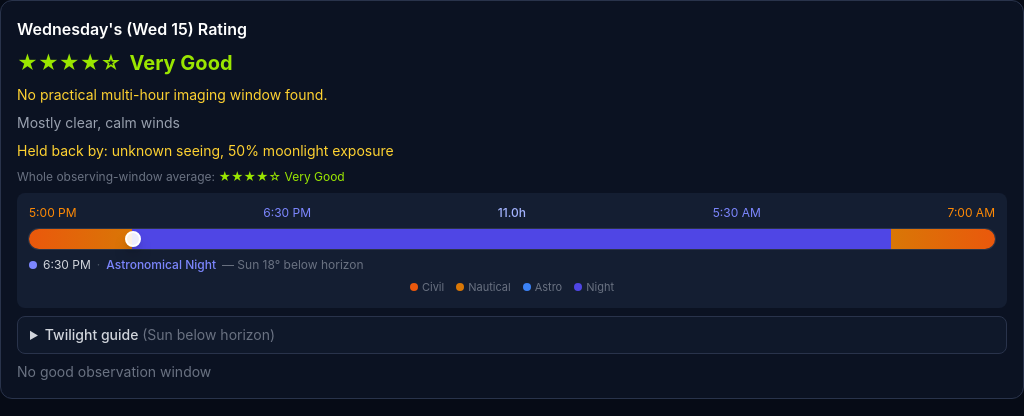
NightQualityCard › reports civil twilight at the start of the night
Set the slider named "night timeline scrubber" to "0": (67, 264) [29,229,995,296]
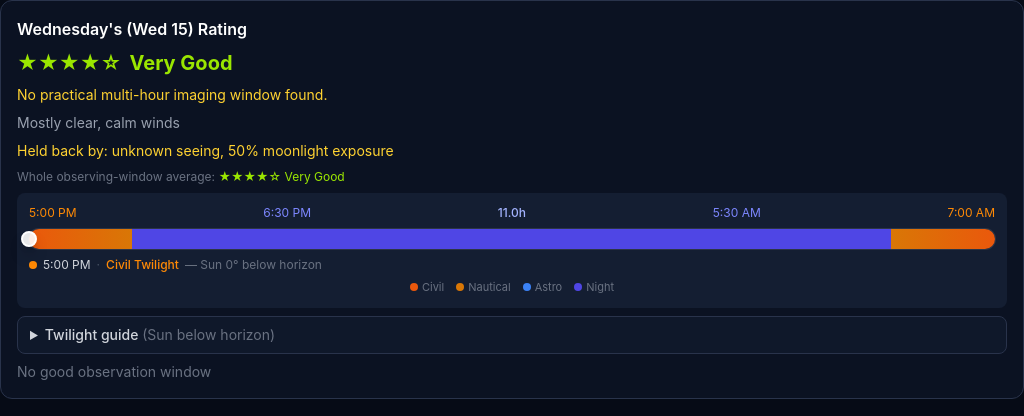
expect the text "Civil Twilight" is shown: met, box [106,257,179,273]
